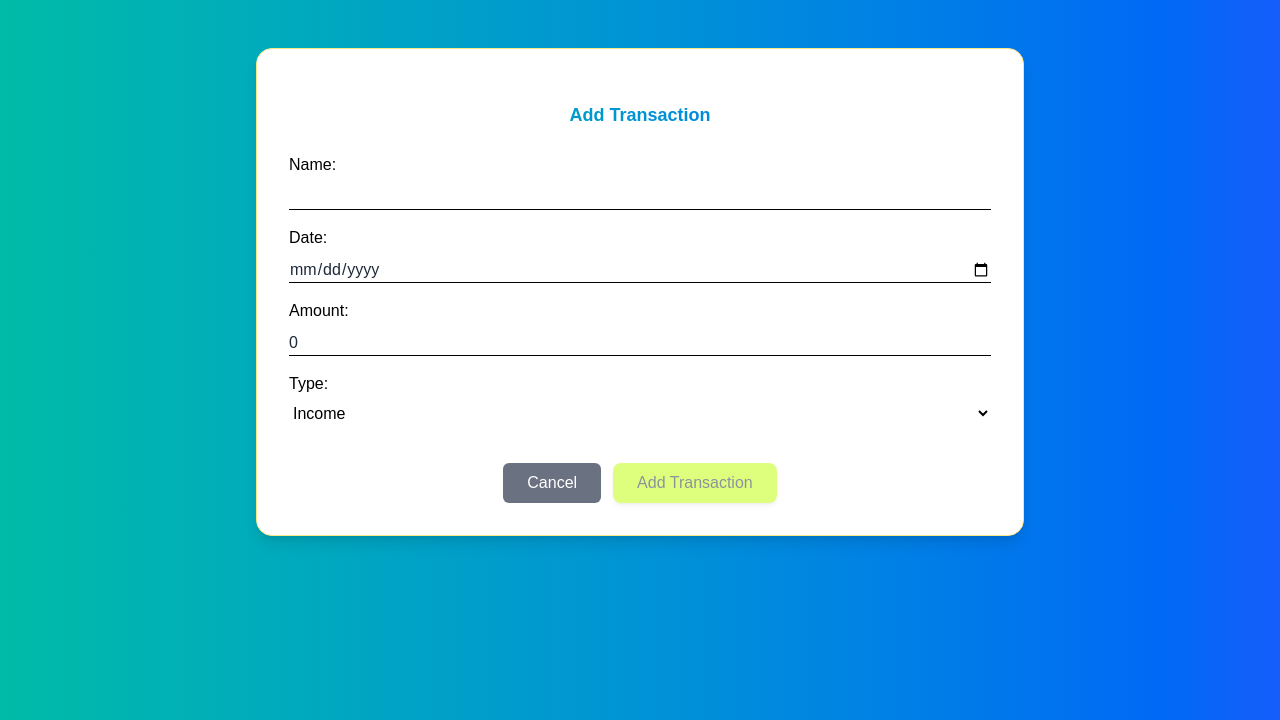
it: AddTransactionForm › enables submit button when form is valid
In the field labelled "Name:": (640, 198) top-left (289, 185), bottom-right (991, 210), type "Salary"
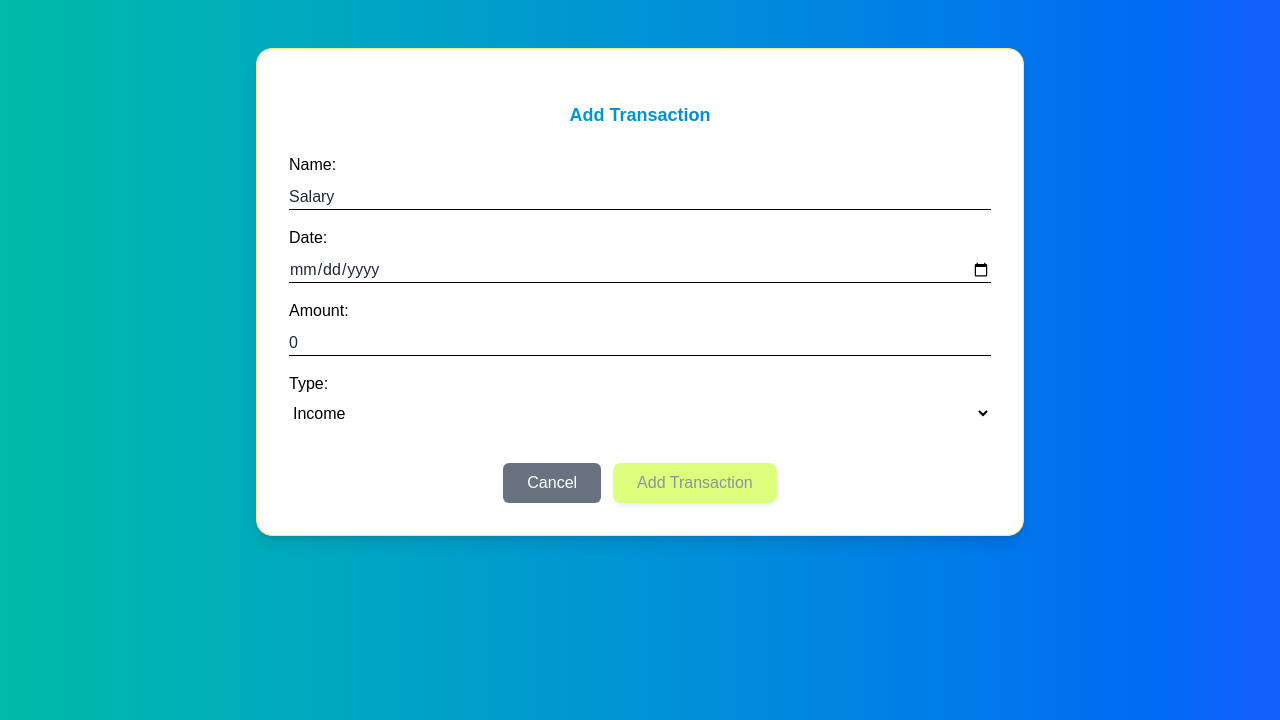
In the date field labelled "Date:": (640, 270) top-left (289, 258), bottom-right (991, 283), type "2025-12-25"
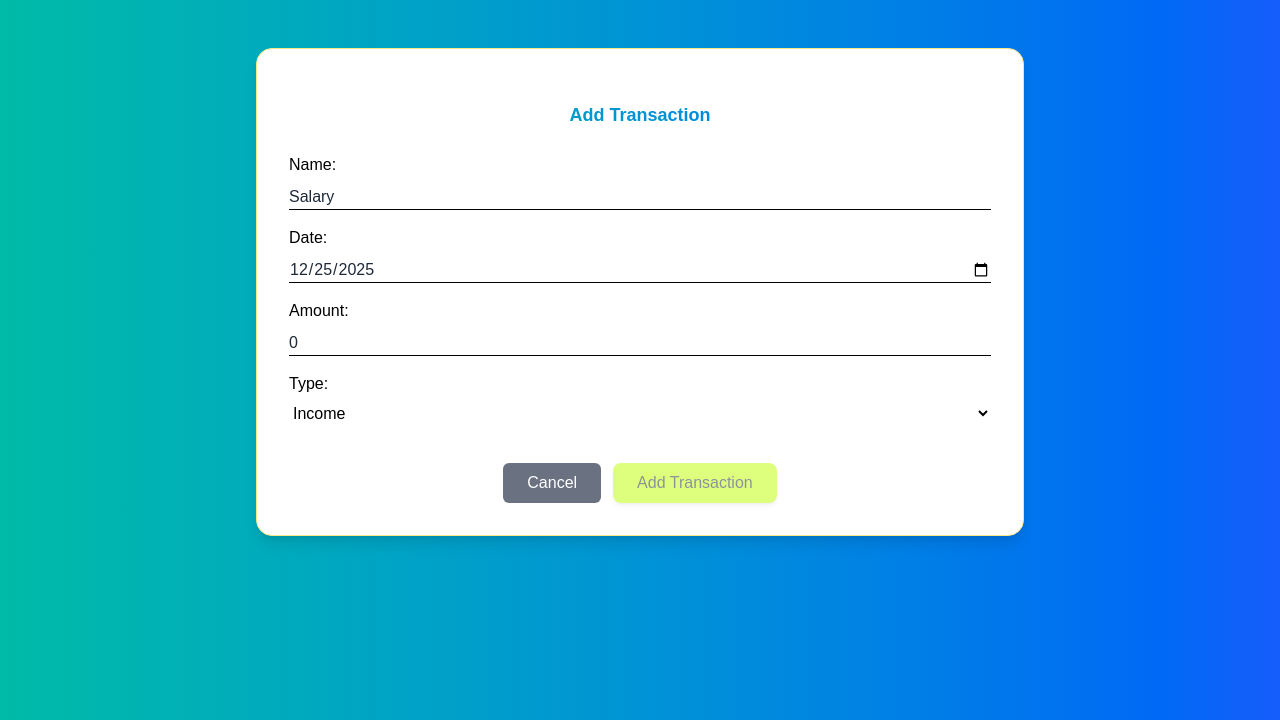
Replace the text in the number field labelled "Amount:" with "1500": (640, 344) top-left (289, 331), bottom-right (991, 356)
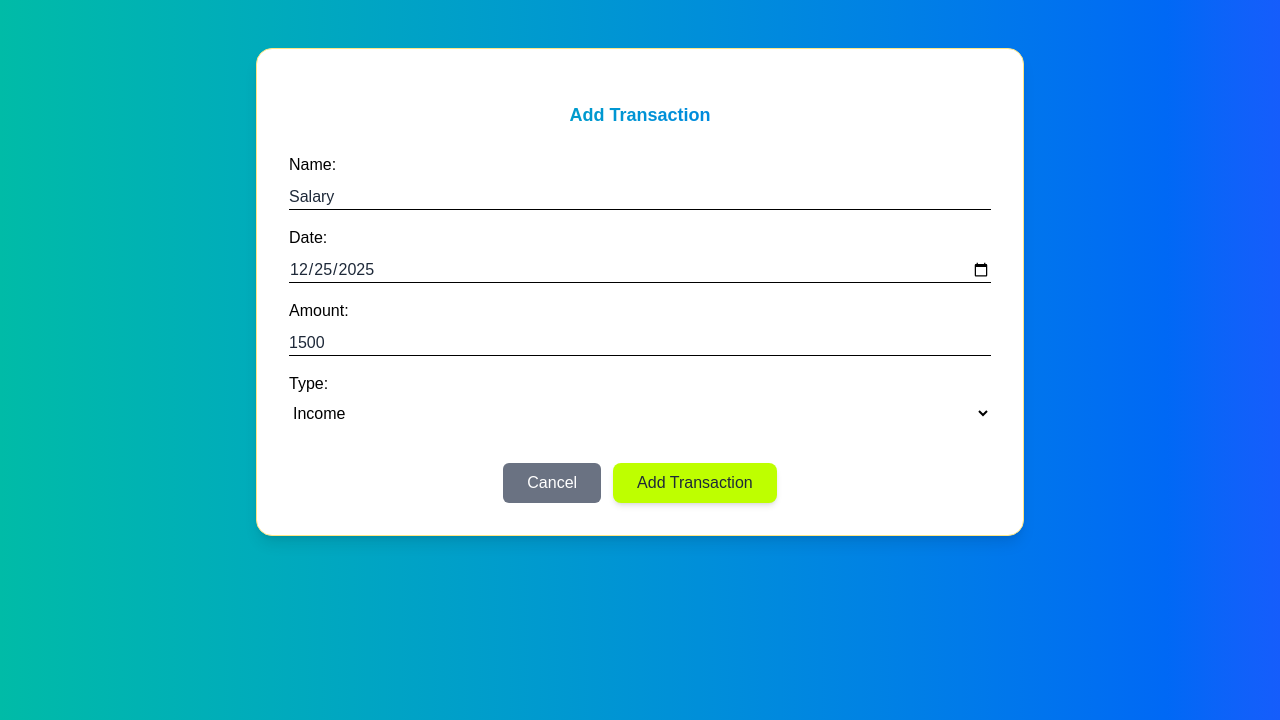
Result: the button "Add Transaction" is enabled at top-left (613, 463), bottom-right (777, 503)
